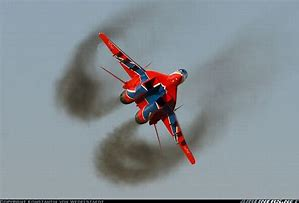smoke: (93, 127, 165, 190), (56, 54, 116, 121)
